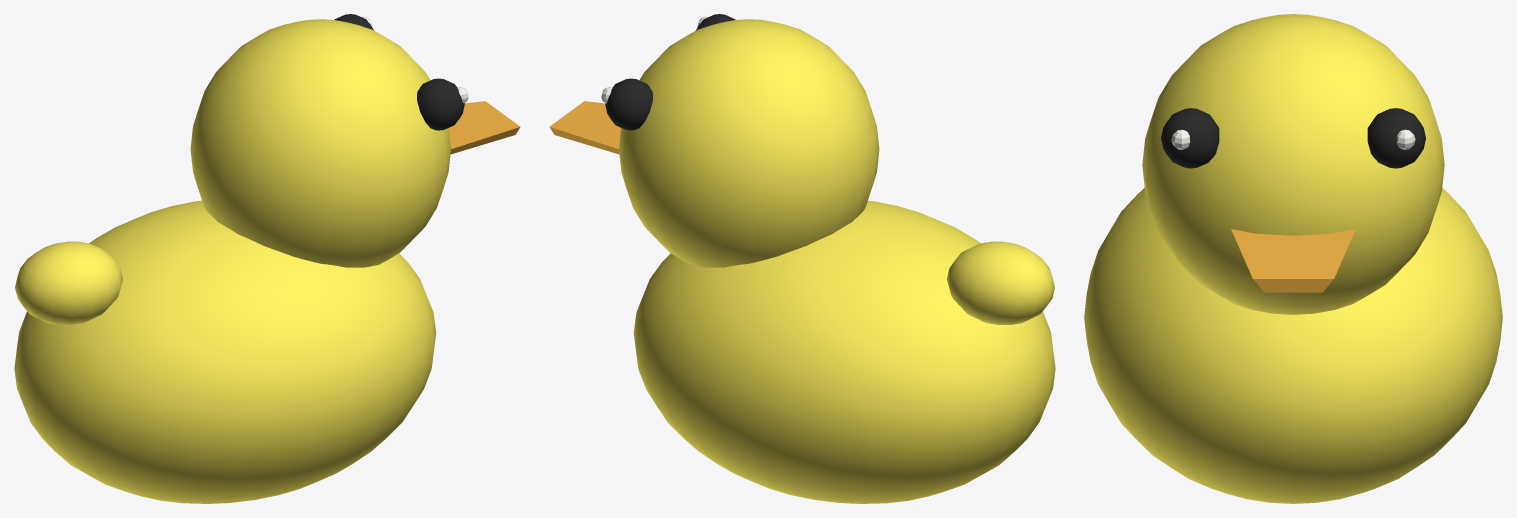
File: Rubber Duck.fbx
3 views of the same model, side by side, from view 1: azimuth 30°, elevation 25°; view 2: azimuth 150°, elevation 25°; view 3: azimuth 270°, elevation 25° (orthographic). The views are drawn at different scales.
Visible parts, largest first — view 1: Body, Head, Tail, Beak, EyeL; view 2: Body, Head, Tail, Beak, EyeR; view 3: Body, Head, Beak, EyeL, EyeR.
Boxes of the visible parts, x1,y1,x2,y2 form: Body: (14, 200, 436, 503); Head: (190, 19, 450, 267); Tail: (15, 241, 122, 324); Beak: (448, 101, 520, 154); EyeL: (417, 78, 464, 130); Body: (633, 200, 1055, 503); Head: (619, 19, 879, 267); Tail: (947, 241, 1054, 324); Beak: (549, 101, 621, 154); EyeR: (605, 78, 652, 130); Body: (1084, 188, 1502, 503); Head: (1142, 14, 1444, 314); Beak: (1231, 229, 1355, 292); EyeL: (1161, 108, 1219, 168); EyeR: (1367, 108, 1425, 168).
Bounding box in the file's own units: 55.6 × 47 × 36.
